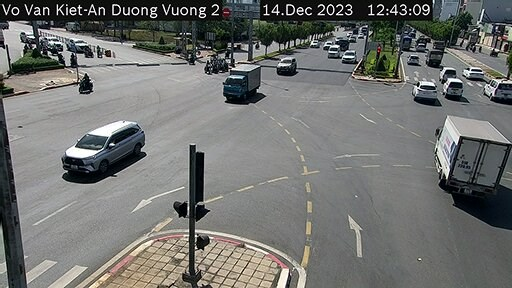car: (59, 123, 149, 177), (488, 73, 512, 103), (443, 78, 466, 97), (419, 79, 437, 103), (466, 64, 485, 85), (278, 54, 294, 73), (438, 65, 458, 80), (325, 46, 337, 60), (345, 48, 356, 63)
motorbike: (72, 71, 93, 95)
truck: (434, 114, 508, 192), (219, 60, 264, 107), (427, 50, 443, 65)
